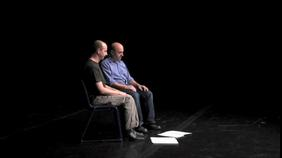crouch: (96, 44, 139, 109)
